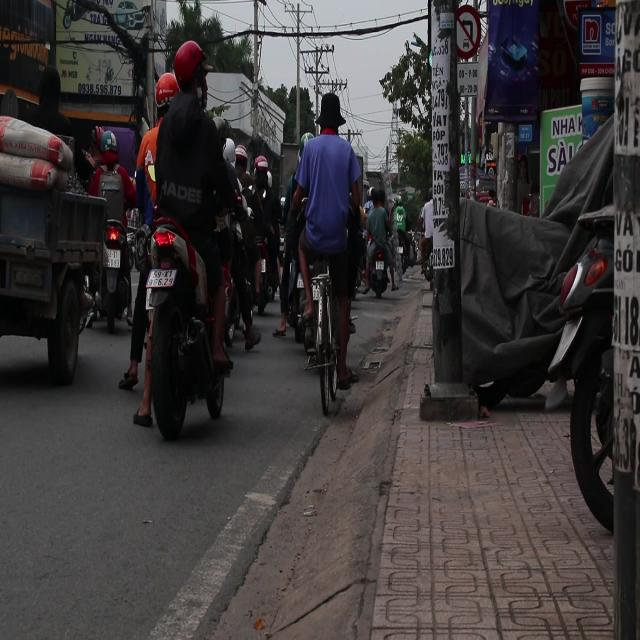motorbike: (121, 205, 231, 438), (91, 142, 138, 337)
truck: (0, 86, 104, 389)
